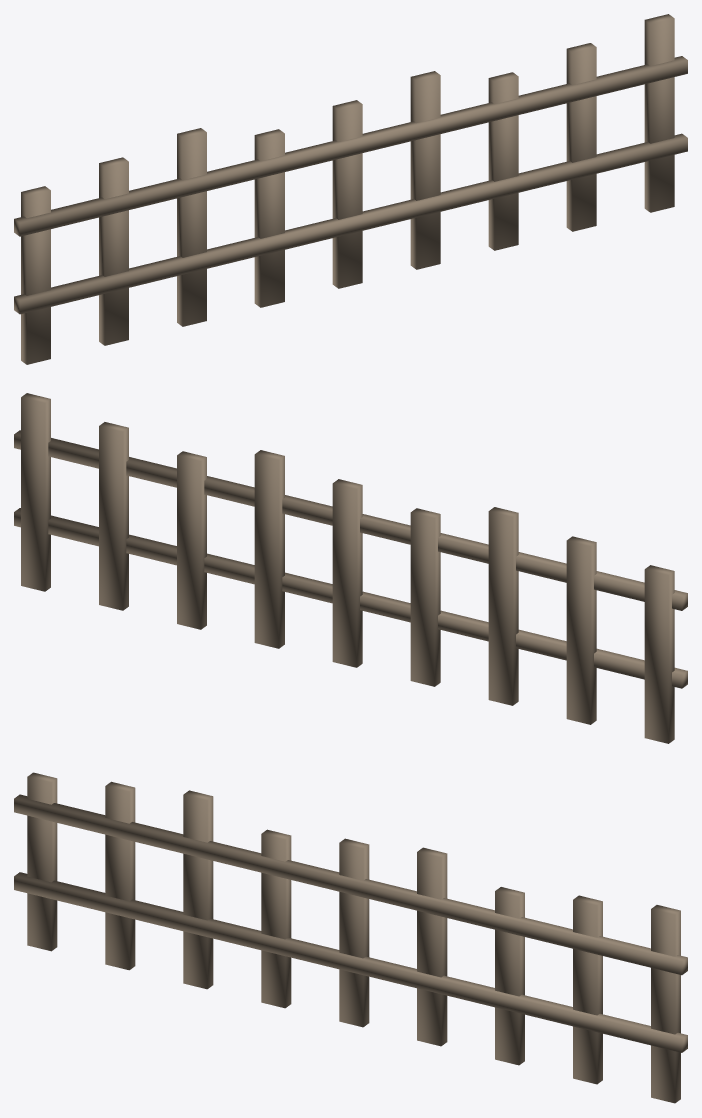
The model's file is Prop_WoodenFence_Hybrid.glb.
3 views of the same model, one above another, from view 1: azimuth 30°, elevation 25°; view 2: azimuth 150°, elevation 25°; view 3: azimuth 330°, elevation 25° (orthographic).
Visible parts, largest first — view 1: Rail_Top, Rail_Bot, Post_1, Post_4, Post_-2, Post_3, Post_0, Post_-3, Post_2, Post_-1, Post_-4; view 2: Rail_Bot, Rail_Top, Post_1, Post_-2, Post_4, Post_0, Post_-3, Post_3, Post_-4, Post_-1, Post_2; view 3: Rail_Bot, Rail_Top, Post_-2, Post_1, Post_4, Post_0, Post_-3, Post_3, Post_-4, Post_-1, Post_2.
Part boxes in pixels (<box>): Rail_Top: <box>14,56,687,236</box>; Rail_Bot: <box>14,133,687,314</box>; Post_1: <box>410,71,440,269</box>; Post_4: <box>644,14,674,212</box>; Post_-2: <box>177,128,206,326</box>; Post_3: <box>566,43,596,231</box>; Post_0: <box>332,100,362,288</box>; Post_-3: <box>99,157,128,345</box>; Post_2: <box>488,72,518,250</box>; Post_-1: <box>254,129,284,307</box>; Post_-4: <box>21,186,50,364</box>; Rail_Bot: <box>14,508,687,688</box>; Rail_Top: <box>14,430,687,610</box>; Post_1: <box>254,450,284,648</box>; Post_-2: <box>488,507,518,705</box>; Post_4: <box>21,393,50,591</box>; Post_0: <box>332,479,362,667</box>; Post_-3: <box>566,536,596,724</box>; Post_3: <box>99,422,128,610</box>; Post_-4: <box>644,565,674,743</box>; Post_-1: <box>410,508,440,686</box>; Post_2: <box>177,451,206,629</box>; Rail_Bot: <box>14,872,687,1052</box>; Rail_Top: <box>14,794,687,975</box>; Post_-2: <box>183,790,213,989</box>; Post_1: <box>417,847,447,1046</box>; Post_4: <box>651,905,680,1103</box>; Post_0: <box>339,838,369,1027</box>; Post_-3: <box>105,781,135,970</box>; Post_3: <box>573,895,602,1084</box>; Post_-4: <box>27,772,57,951</box>; Post_-1: <box>261,829,291,1008</box>; Post_2: <box>495,887,524,1065</box>.
Size of the model in its own units: 3.6 by 0.9723 by 0.085.
